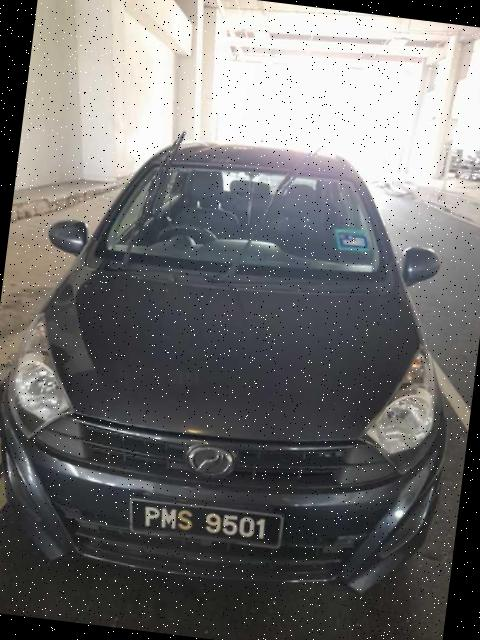License_Plate: (126, 494, 287, 553)
car: (1, 113, 480, 610)
